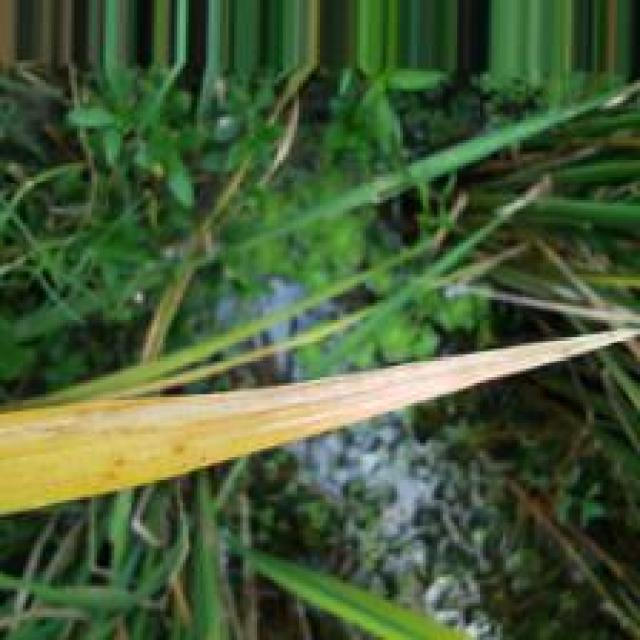Bacterial_Leaf_Blight: (42, 327, 640, 441), (102, 458, 129, 482), (169, 446, 182, 458)
